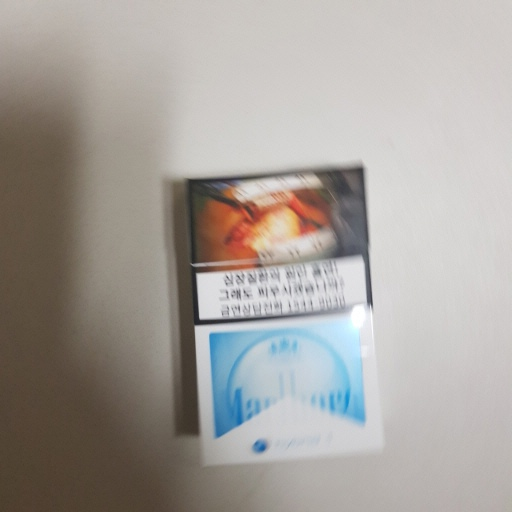Paper_0: (182, 165, 387, 466)
